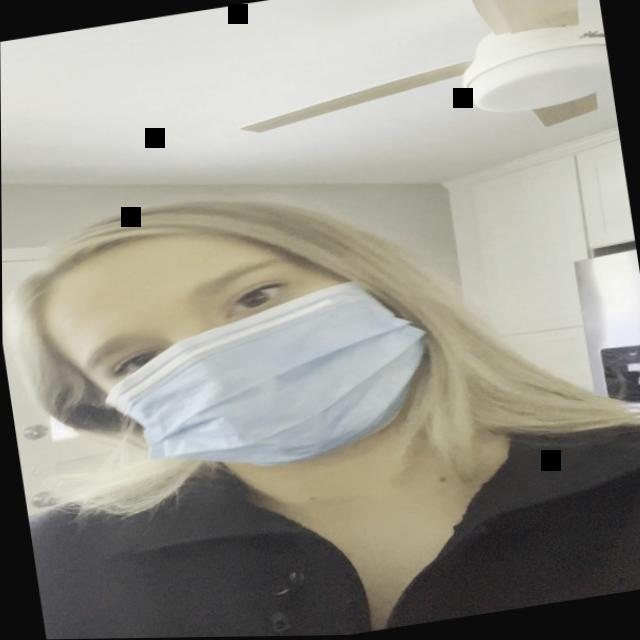Mask: (3, 163, 479, 522)
